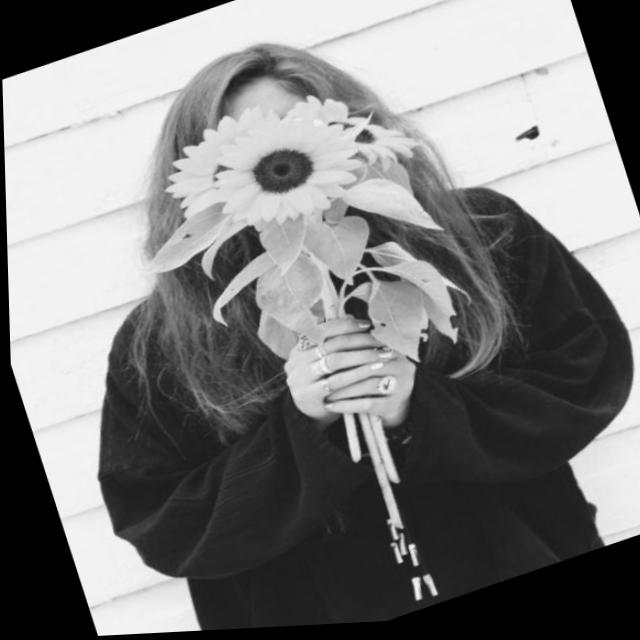Flower: (200, 107, 366, 238)
